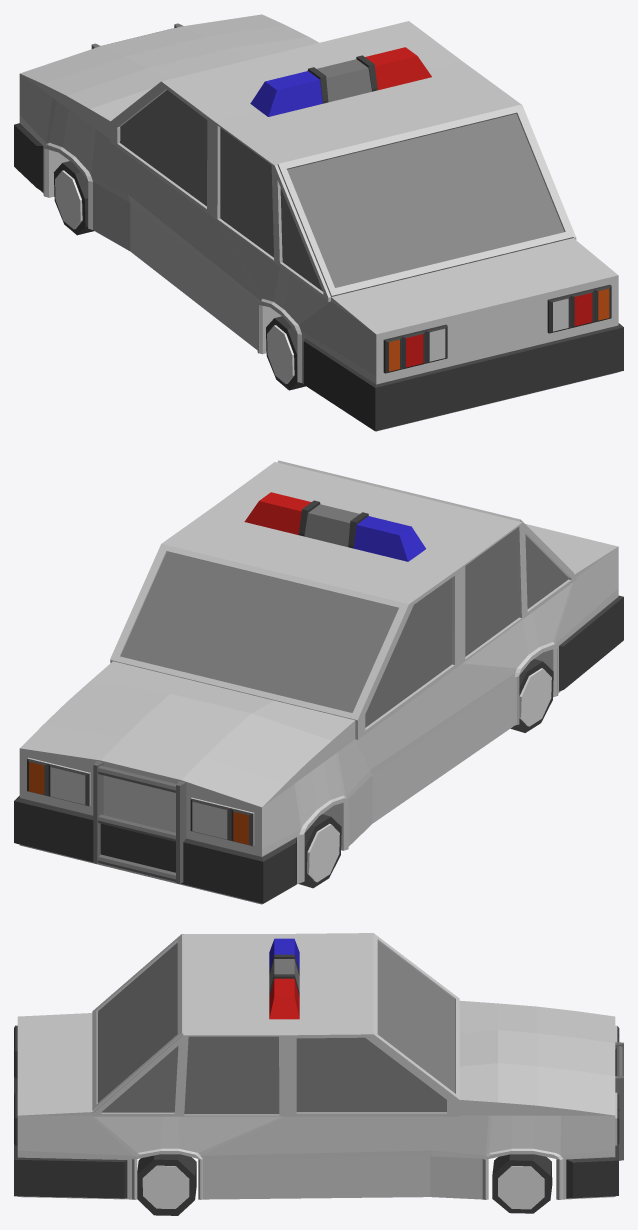
The model's file is PoliceCarV2Coloured.fbx.
3 renders of one model, top to bottom at view 1: azimuth 30°, elevation 25°; view 2: azimuth 150°, elevation 25°; view 3: azimuth 270°, elevation 25°, orthographic. The views are drawn at different scales.
Visible parts, largest first — view 1: Cube, Cube.008, Cube.006, Cylinder.009, Cylinder.010; view 2: Cube, Cube.007, Cube.005, Cylinder.009, Cylinder.010; view 3: Cube, Cylinder.003, Cylinder.008.
Boxes of the visible parts, x1=… form: Cube: x1=14, y1=14, x2=623, y2=431; Cube.008: x1=383, y1=324, x2=447, y2=373; Cube.006: x1=547, y1=284, x2=611, y2=333; Cylinder.009: x1=55, y1=170, x2=82, y2=229; Cylinder.010: x1=267, y1=325, x2=294, y2=383; Cube: x1=14, y1=460, x2=623, y2=904; Cube.007: x1=190, y1=797, x2=254, y2=846; Cube.005: x1=27, y1=757, x2=90, y2=806; Cylinder.009: x1=307, y1=823, x2=339, y2=882; Cylinder.010: x1=519, y1=668, x2=551, y2=726; Cube: x1=14, y1=933, x2=623, y2=1215; Cylinder.003: x1=142, y1=1165, x2=189, y2=1208; Cylinder.008: x1=498, y1=1166, x2=544, y2=1209.
Size of the model in its own units: 250 by 219 by 605.
